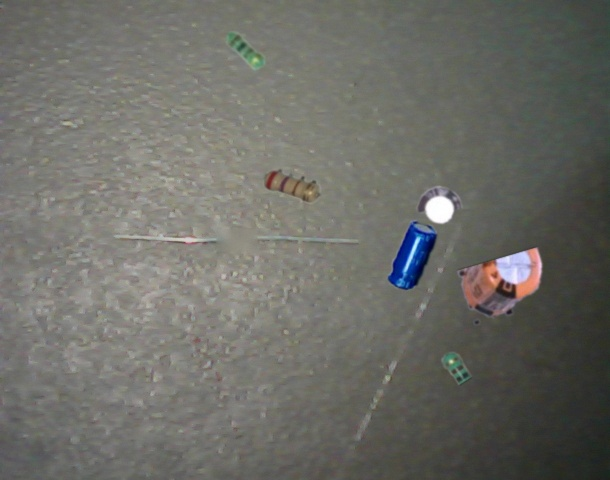capacitor: (458, 247, 542, 325), (388, 221, 437, 290), (417, 186, 462, 224)
resistor: (264, 169, 321, 203), (227, 32, 265, 69), (442, 353, 471, 385)
